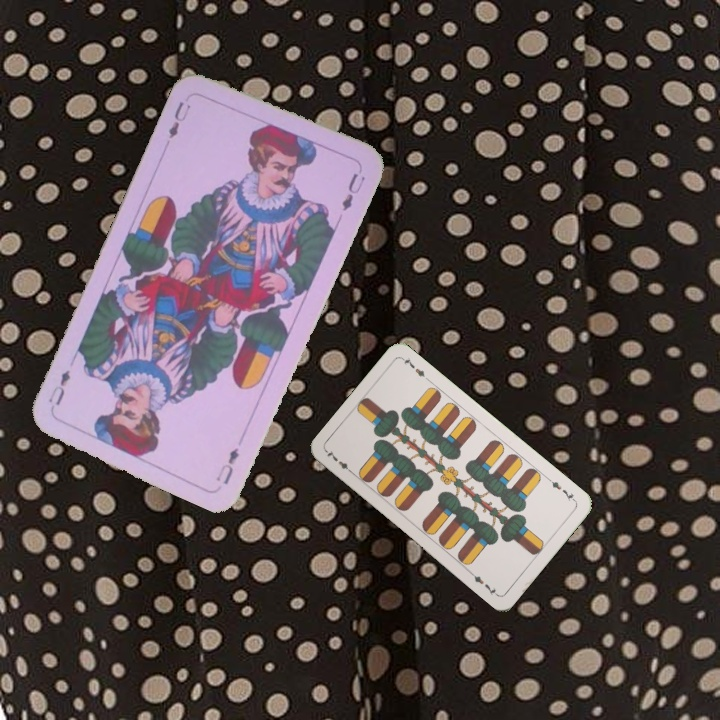E7: (544, 474, 579, 505), (322, 446, 357, 477)
EU: (211, 444, 242, 487), (164, 97, 194, 141)
